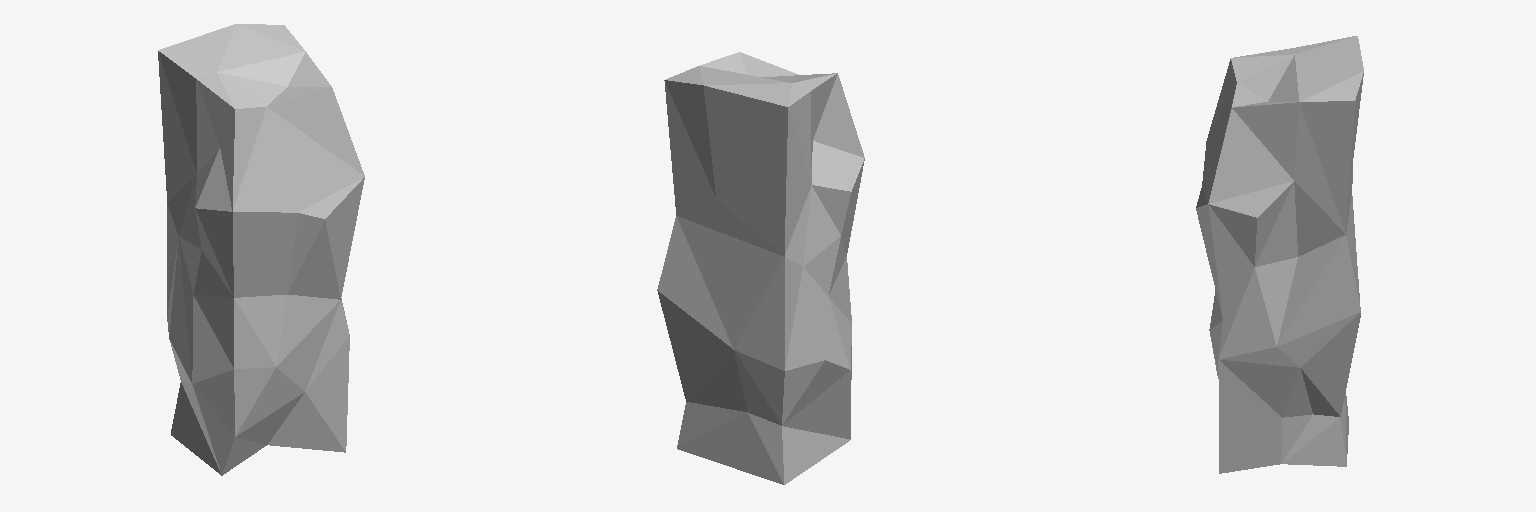
File: rock_column_1x1.obj
The picture shows the model from 3 angles: view 1: azimuth 30°, elevation 25°; view 2: azimuth 150°, elevation 25°; view 3: azimuth 270°, elevation 25°; orthographic projection.
Visible parts, largest first — view 1: rock_column_1x1_Cube; view 2: rock_column_1x1_Cube; view 3: rock_column_1x1_Cube.
Boxes of the visible parts, x1,y1,x2,y2 form: rock_column_1x1_Cube: [158, 24, 364, 475]; rock_column_1x1_Cube: [657, 52, 864, 484]; rock_column_1x1_Cube: [1196, 36, 1363, 473].
Size of the model in its own units: 3.04 by 7.78 by 3.03.